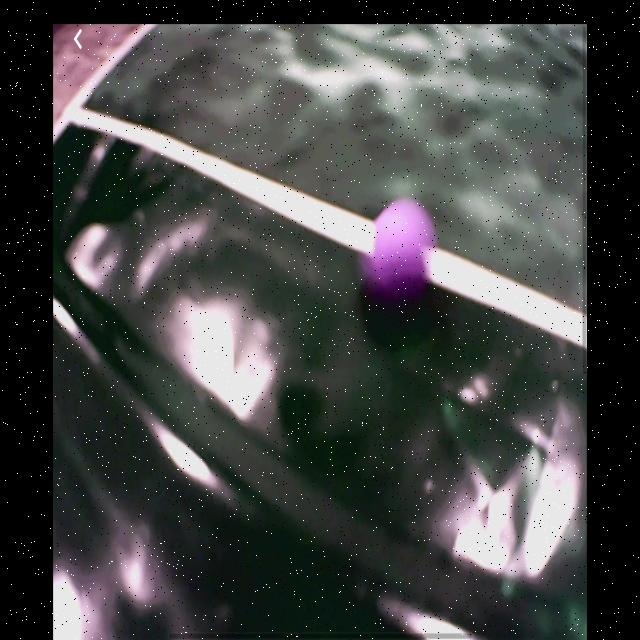ball: (358, 195, 438, 304)
